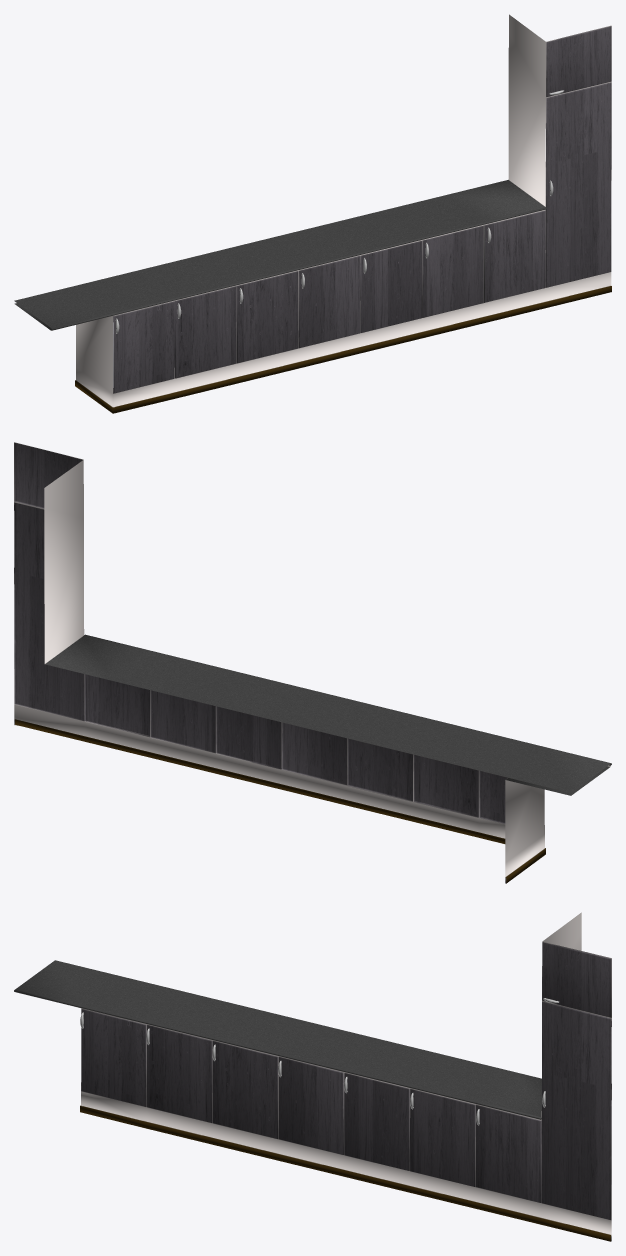
File: DarkTableV6.fbx
3 views of the same model, one above another, from view 1: azimuth 30°, elevation 25°; view 2: azimuth 150°, elevation 25°; view 3: azimuth 330°, elevation 25° (orthographic). The views are drawn at different scales.
Visible parts, largest first — view 1: Dark Table; view 2: Dark Table; view 3: Dark Table.
Part boxes in pixels (x1=…): Dark Table: x1=14, y1=14, x2=611, y2=413; Dark Table: x1=14, y1=442, x2=611, y2=883; Dark Table: x1=14, y1=912, x2=611, y2=1241.
Bounding box in the file's own units: 5.35 × 2.43 × 0.6552.
